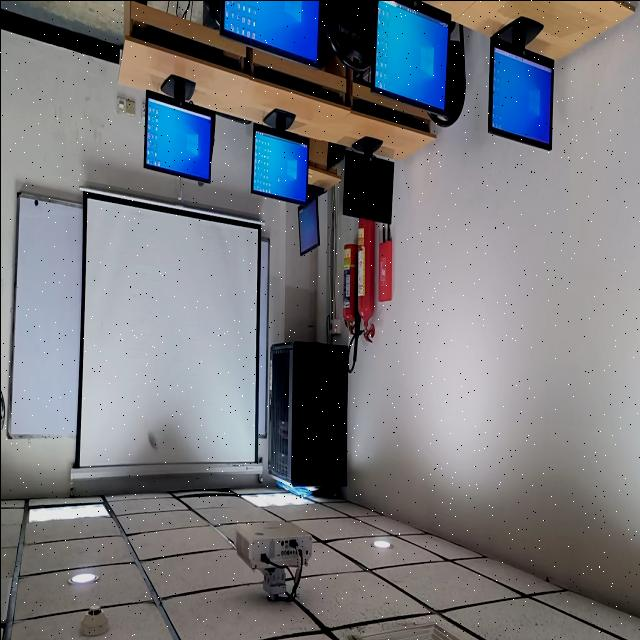Fire Extinguisher: (340, 212, 396, 361)
Monitor: (375, 1, 453, 92), (486, 56, 564, 135), (217, 0, 325, 57), (146, 96, 212, 174), (248, 133, 306, 199), (340, 153, 400, 215)
Projector: (232, 508, 314, 578)
